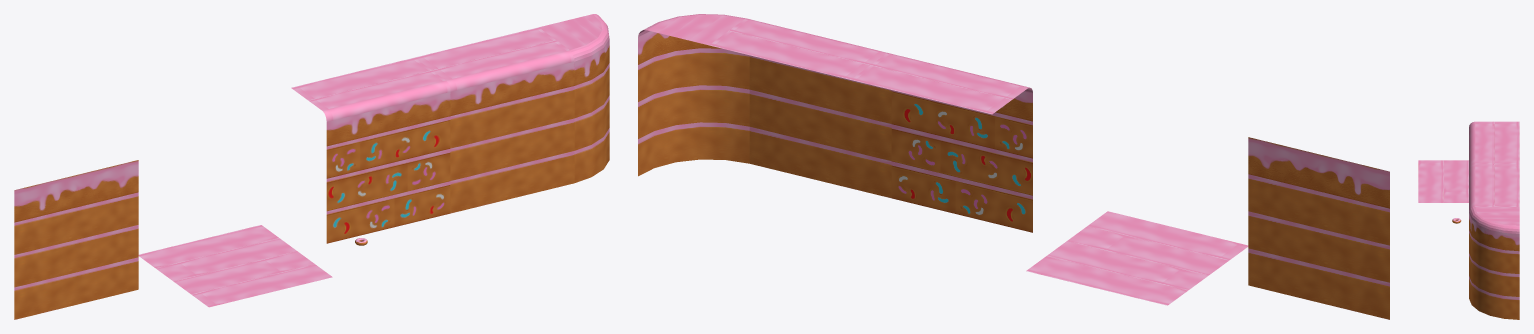
The model's file is GMTK2025_ENV_Modular.fbx.
3 renders of one model, left to right at view 1: azimuth 30°, elevation 25°; view 2: azimuth 150°, elevation 25°; view 3: azimuth 270°, elevation 25°, orthographic. The views are drawn at different scales.
Parts seen in each view (by area): view 1: Cake_Wall_withTop, Cake_Wall_withTop2, Cake_Wall, Floor, Cake_Wall_Corner; view 2: Cake_Wall_withTop2, Cake_Wall, Cake_Wall_withTop, Cake_Wall_Corner, Floor; view 3: Cake_Wall_Corner, Cake_Wall_withTop2, Cake_Wall_withTop, Floor.
Boxes of the visible parts, x1,y1,x2,y2 form: Cake_Wall_withTop: (415,27,574,213); Cake_Wall_withTop2: (291,57,450,243); Cake_Wall: (14,160,138,319); Floor: (138,225,332,307); Cake_Wall_Corner: (539,14,609,182); Cake_Wall_withTop2: (851,53,1032,232); Cake_Wall: (1248,137,1389,319); Cake_Wall_withTop: (709,18,891,198); Cake_Wall_Corner: (638,14,749,176); Floor: (1026,211,1248,305); Cake_Wall_Corner: (1469,207,1519,319); Cake_Wall_withTop2: (1469,121,1519,168); Cake_Wall_withTop: (1469,164,1519,211); Floor: (1418,160,1468,202).
Bounding box in the file's own units: 5.02 × 1 × 1.
